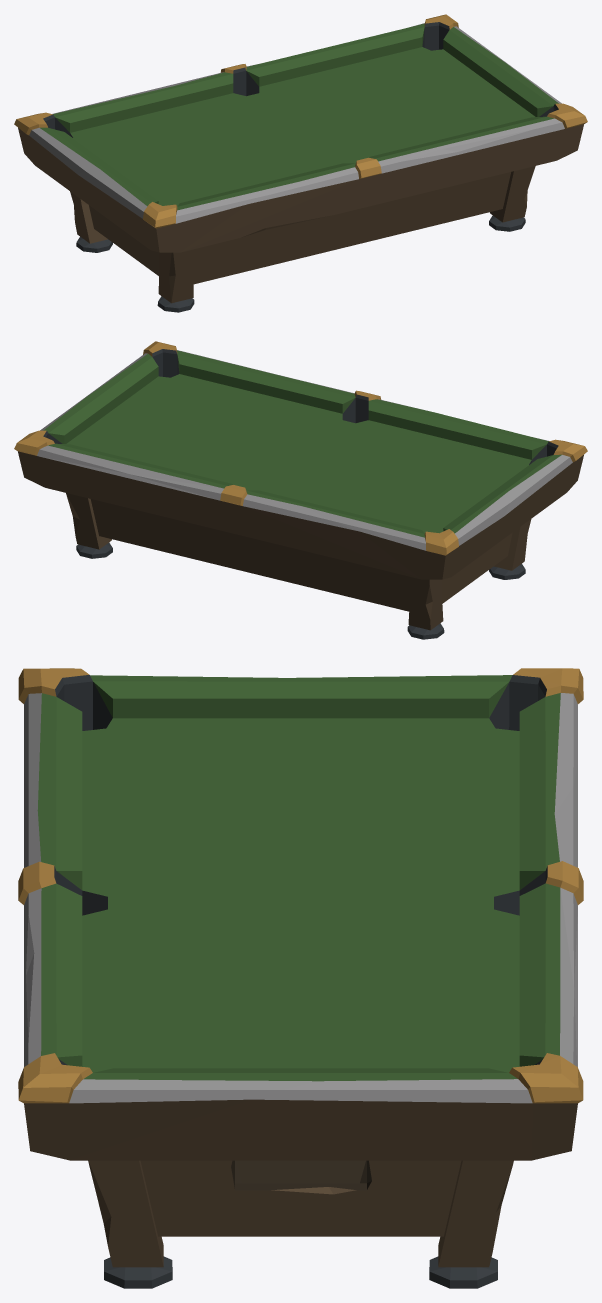
Rendered from SM_Prop_PoolTable_01.obj.
The picture shows the model from 3 angles, top to bottom: view 1: azimuth 30°, elevation 25°; view 2: azimuth 150°, elevation 25°; view 3: azimuth 270°, elevation 25°; orthographic projection. The views are drawn at different scales.
Parts seen in each view (by area): view 1: SM_Prop_PoolTable_01_M_PolygonOffice_01_A; view 2: SM_Prop_PoolTable_01_M_PolygonOffice_01_A; view 3: SM_Prop_PoolTable_01_M_PolygonOffice_01_A.
Boxes of the visible parts, x1=… form: SM_Prop_PoolTable_01_M_PolygonOffice_01_A: x1=14, y1=14, x2=587, y2=312; SM_Prop_PoolTable_01_M_PolygonOffice_01_A: x1=14, y1=341, x2=587, y2=639; SM_Prop_PoolTable_01_M_PolygonOffice_01_A: x1=18, y1=668, x2=583, y2=1288.
Size of the model in its own units: 3.33 by 0.8884 by 1.88.
